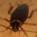cockroach: (9, 3, 29, 32)
